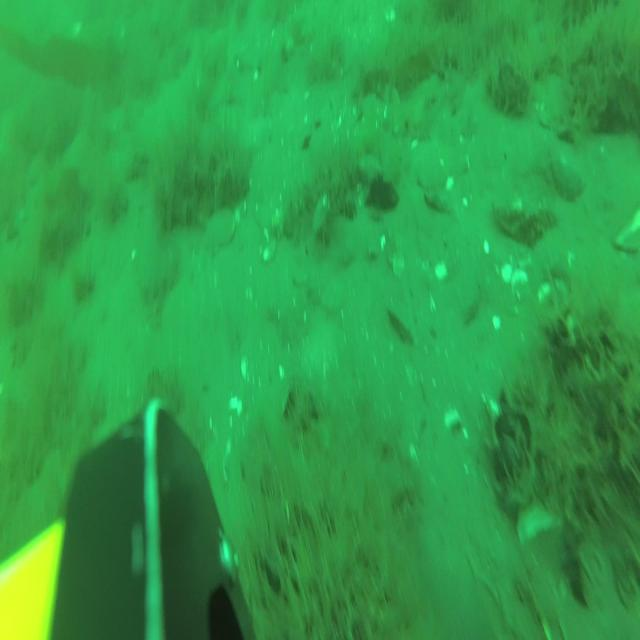scallop: (299, 325, 352, 377), (206, 204, 238, 250), (418, 153, 454, 192), (322, 274, 348, 310)
